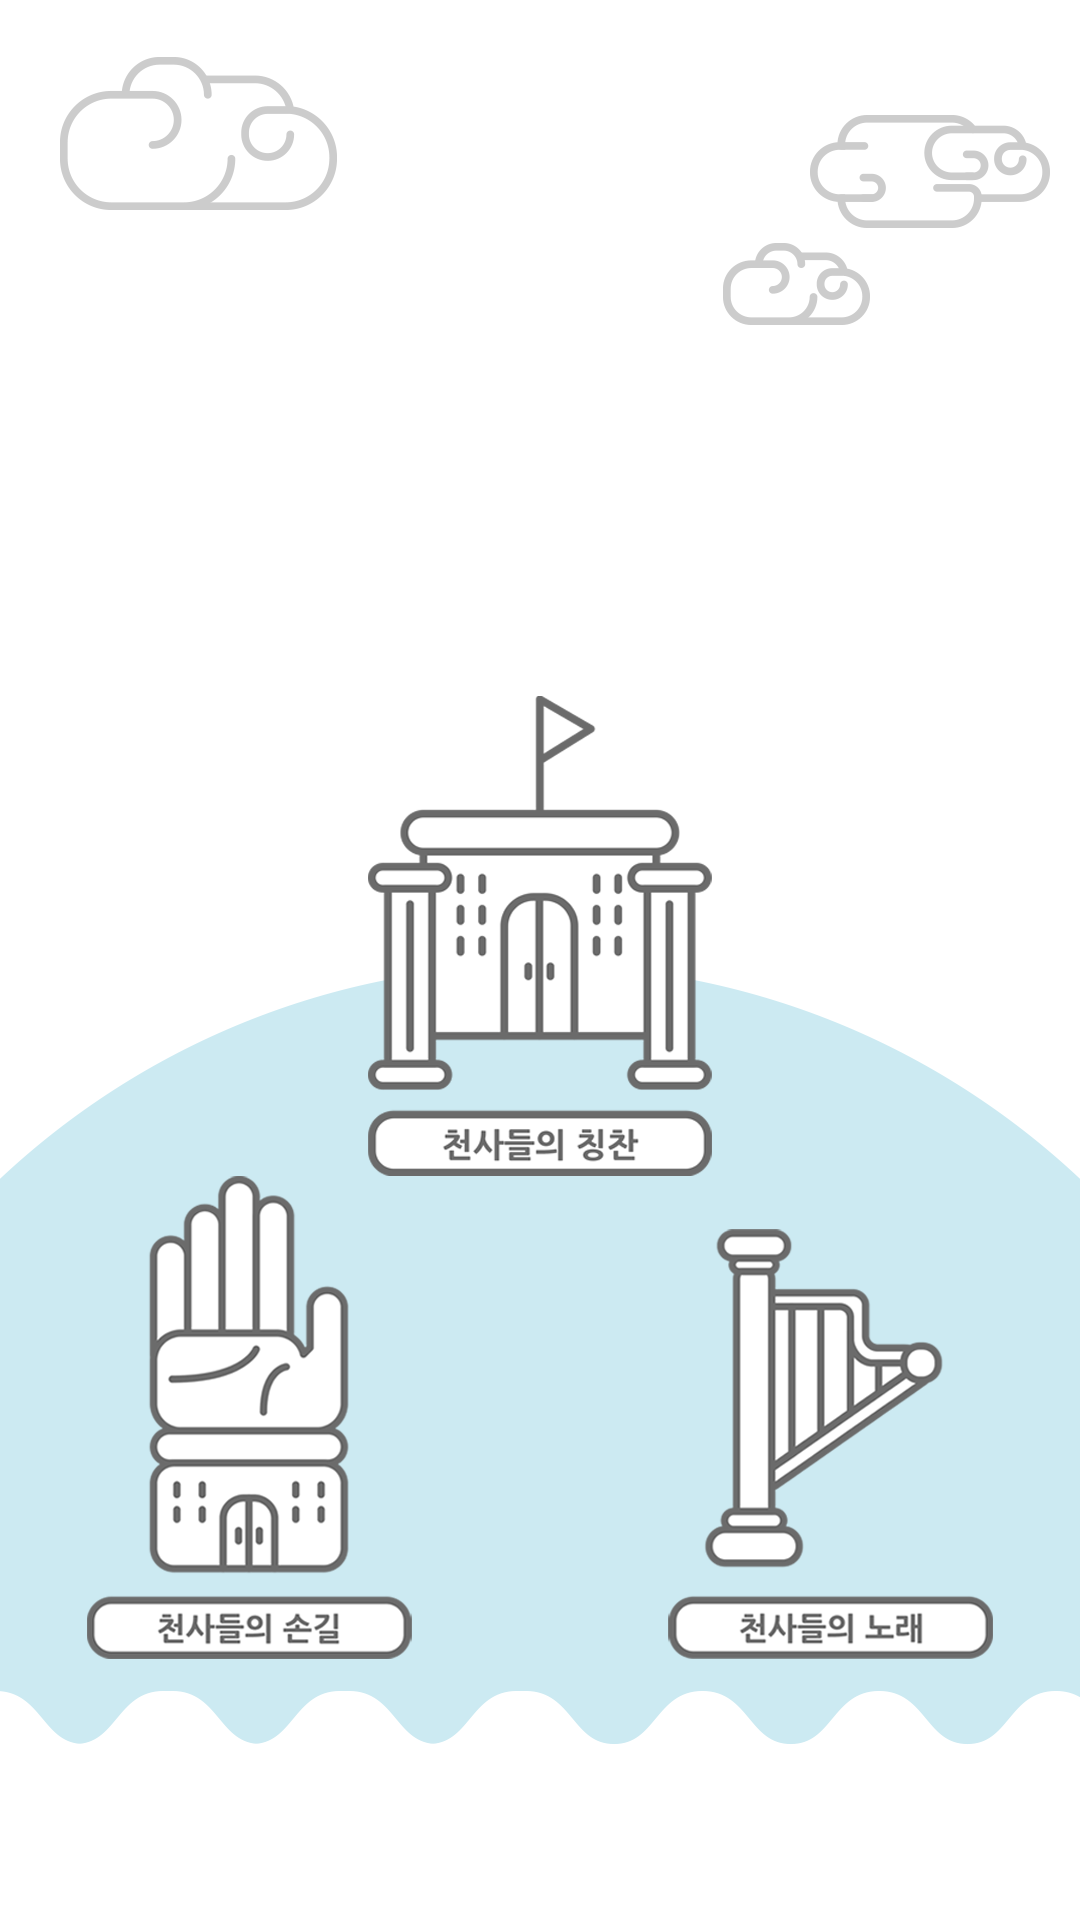

Icons on this 1080px x 1920px Android screen, each with its box as bbox=[x1, y1, x2, y2]:
cloud left: bbox=[60, 57, 337, 210]
cloud middel: bbox=[723, 243, 870, 325]
cloud right: bbox=[810, 115, 1050, 228]
